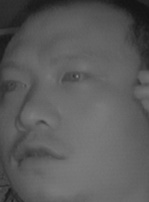eye: (59, 66, 91, 86), (1, 75, 31, 94)
mouth: (13, 138, 65, 172)
